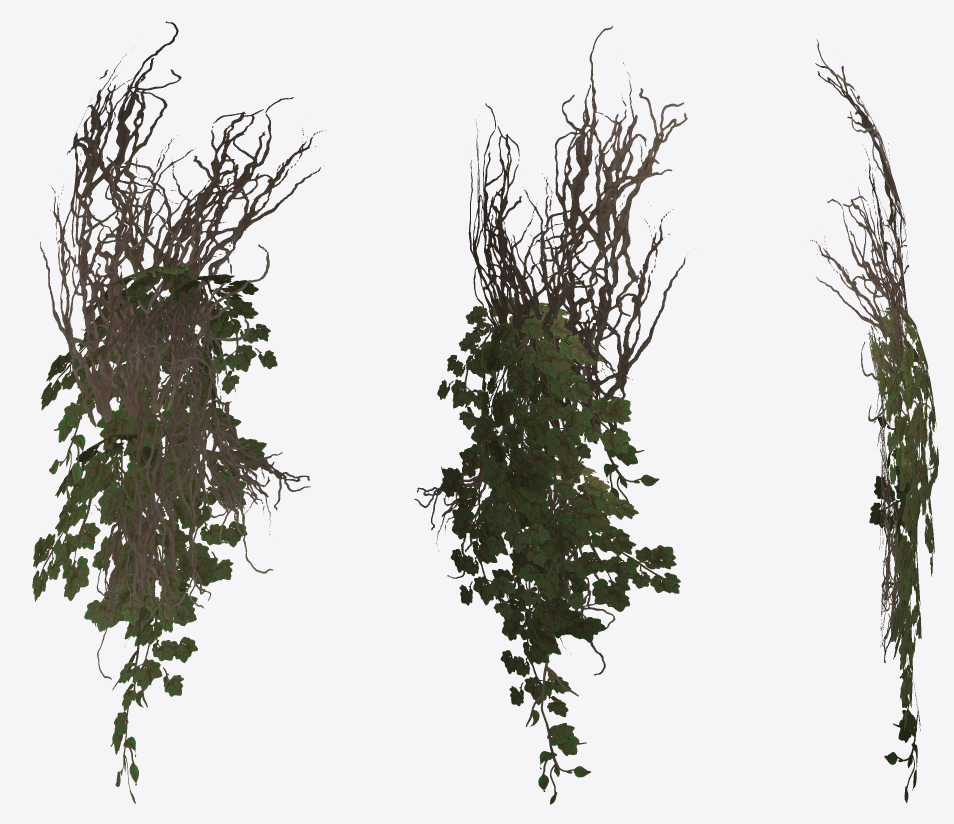
Rendered from SM_Fol_Ivy_Building1.fbx.
3 renders of one model, left to right at view 1: azimuth 30°, elevation 25°; view 2: azimuth 150°, elevation 25°; view 3: azimuth 270°, elevation 25°, orthographic. The views are drawn at different scales.
Parts seen in each view (by area): view 1: SM_Fol_Ivy_Building1_LOD0; view 2: SM_Fol_Ivy_Building1_LOD0; view 3: SM_Fol_Ivy_Building1_LOD0.
Boxes of the visible parts, x1,y1,x2,y2 form: SM_Fol_Ivy_Building1_LOD0: [32, 21, 322, 803]; SM_Fol_Ivy_Building1_LOD0: [414, 26, 687, 804]; SM_Fol_Ivy_Building1_LOD0: [810, 39, 938, 802].
Bounding box in the file's own units: 217 × 105 × 523.
1 material, 1 textured.
